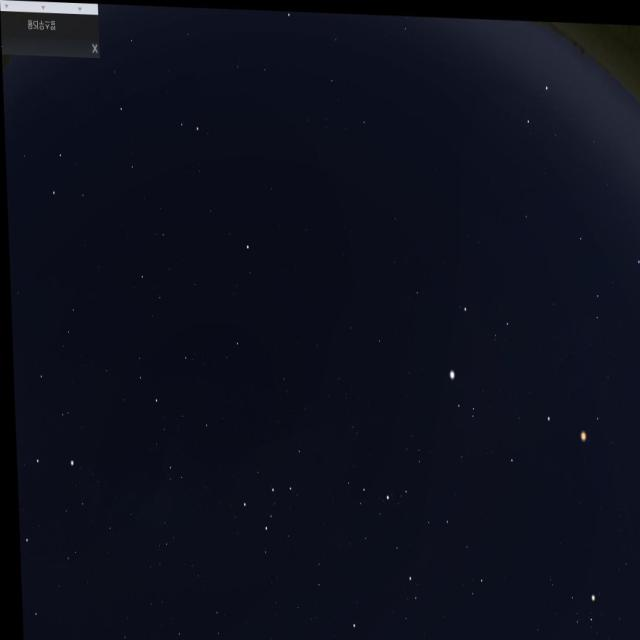cassiopeia: (221, 434, 310, 570)
pleiades: (505, 633, 521, 640)
